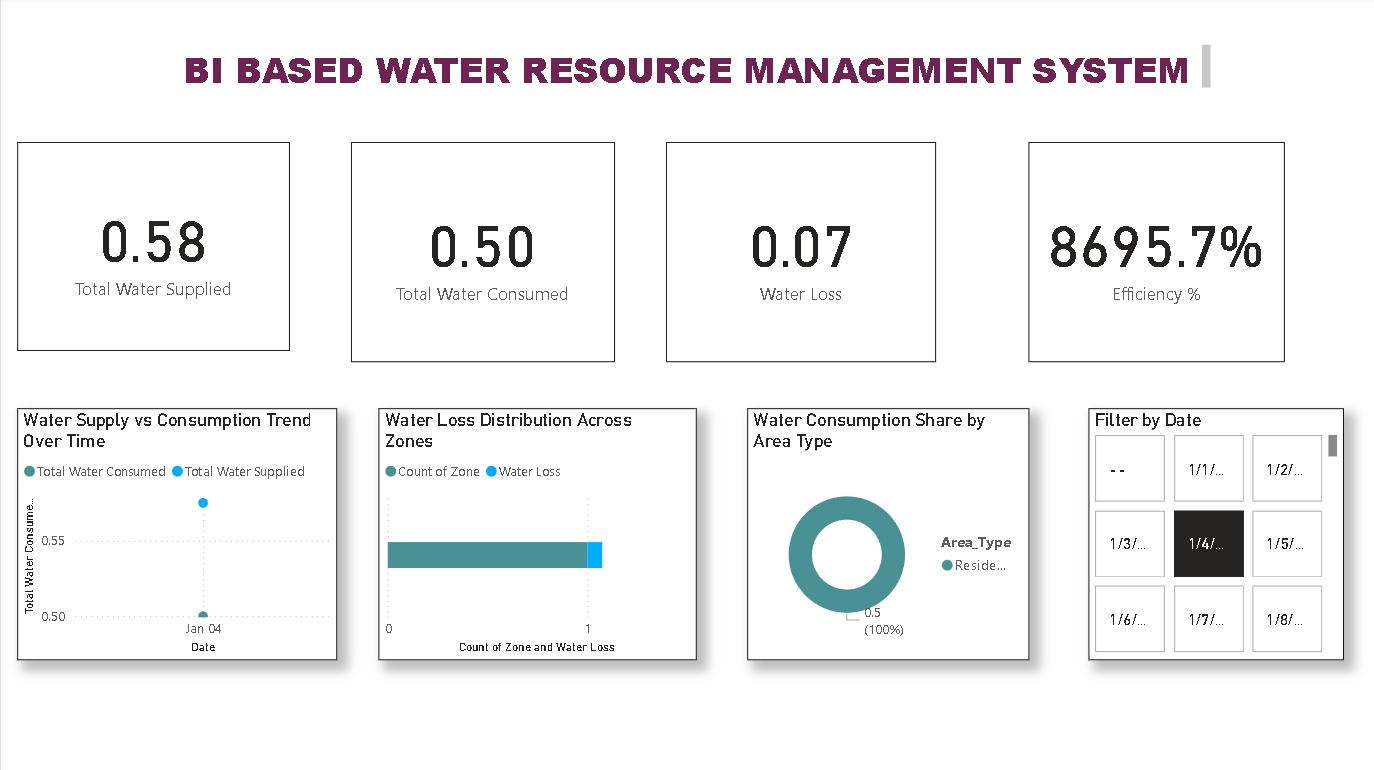

Layout of this report page (visuals, bound fields, positions):
{"tool":"powerbi","page":{"name":"Water Resource Overview","canvas":[1280,720],"ordinal":0},"visuals":[{"type":"textbox","box":[164.7,39.8,964.7,52.1],"z":0},{"type":"card","fields":{"Values":["Date_Table.Total Water Supplied"]},"box":[15.1,134.9,253.5,194.2],"z":1000},{"type":"card","fields":{"Values":["Date_Table.Water Loss"]},"box":[618.6,134.9,251.2,204.7],"z":2000},{"type":"card","fields":{"Values":["Date_Table.Efficiency %"]},"box":[955.8,134.9,238.4,204.7],"z":3000},{"type":"card","fields":{"Values":["Date_Table.Total Water Consumed"]},"box":[325.6,134.9,245.3,204.7],"z":4000},{"type":"lineChart","title":"Water Supply vs Consumption Trend Over Time","fields":{"Category":["Date_Table.Date"],"Y":["Date_Table.Total Water Consumed","Date_Table.Total Water Supplied"]},"box":[15.1,382.8,297.8,234.6],"z":5000},{"type":"barChart","title":"Water Loss Distribution Across Zones","fields":{"Y":["CountNonNull(cleaned_water_dataset.Zone)","Date_Table.Water Loss"]},"box":[351.3,382.8,296.4,234.6],"z":6000},{"type":"donutChart","title":"Water Consumption Share by Area Type","fields":{"Category":["cleaned_water_dataset.Area_Type"],"Y":["Date_Table.Total Water Consumed"]},"box":[694.3,382.8,262.1,234.6],"z":7000},{"type":"advancedSlicerVisual","title":"Filter by Date","fields":{"Values":["Date_Table.Date"]},"box":[1011.3,382.8,237.4,234.6],"z":8000}]}

Visuals, with their boxes in screenshot pixels (x1, y1, x2, y2), scaled from the page's 1280x720 canvas onto the 1374x770 screenshot:
textbox: (x1=177, y1=43, x2=1212, y2=98)
card - Date_Table.Total Water Supplied: (x1=16, y1=144, x2=288, y2=352)
card - Date_Table.Water Loss: (x1=664, y1=144, x2=934, y2=363)
card - Date_Table.Efficiency %: (x1=1026, y1=144, x2=1282, y2=363)
card - Date_Table.Total Water Consumed: (x1=350, y1=144, x2=613, y2=363)
"Water Supply vs Consumption Trend Over Time" lineChart: (x1=16, y1=409, x2=336, y2=660)
"Water Loss Distribution Across Zones" barChart: (x1=377, y1=409, x2=695, y2=660)
"Water Consumption Share by Area Type" donutChart: (x1=745, y1=409, x2=1027, y2=660)
"Filter by Date" advancedSlicerVisual: (x1=1086, y1=409, x2=1340, y2=660)
